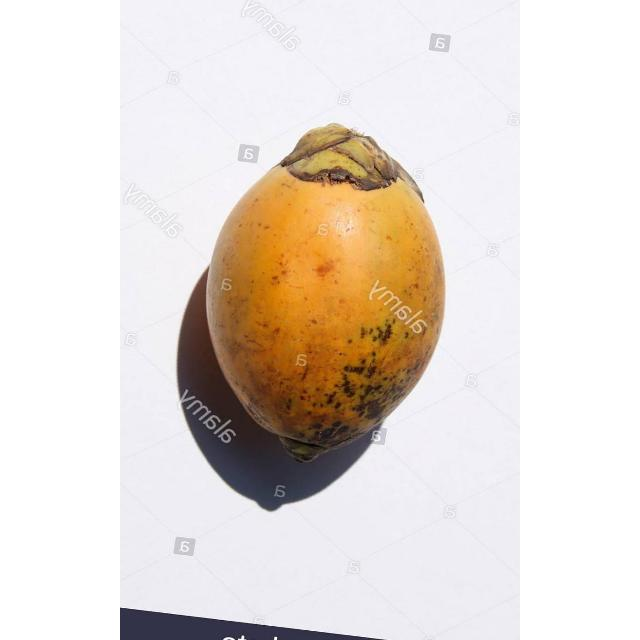good: (206, 126, 446, 464)
